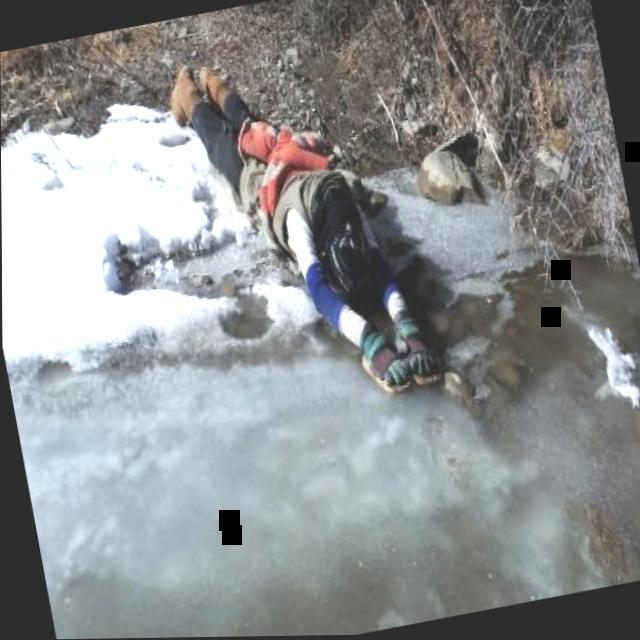Fall-Detected: (150, 0, 463, 441)
